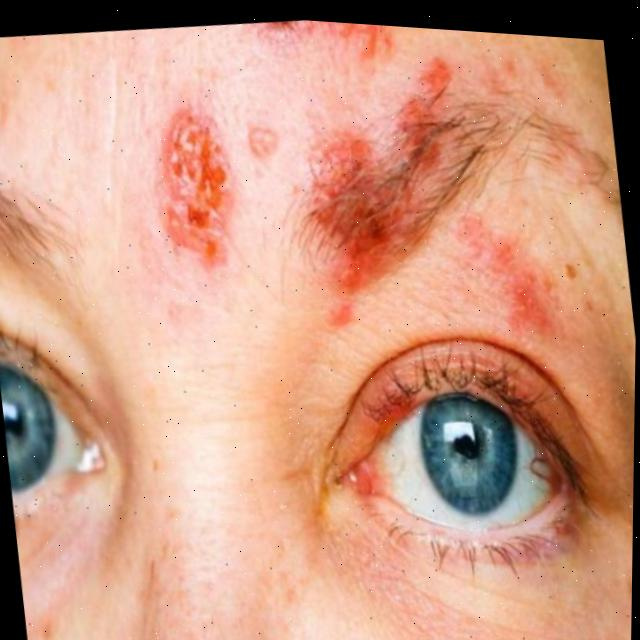Shingles: (291, 45, 496, 342), (143, 100, 250, 282), (451, 201, 565, 353), (252, 17, 399, 74)
